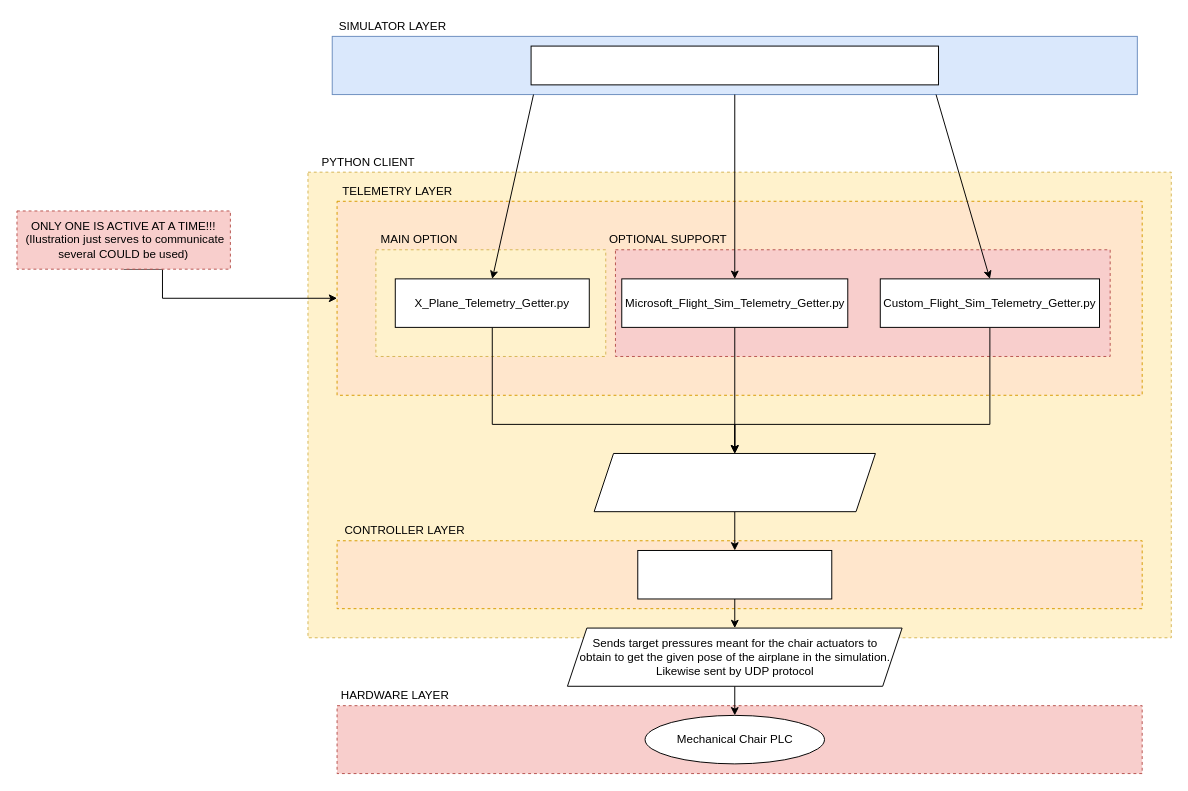
This 1188x791 diagram has some shape labels left out. Here are the shapes that lost their labels. From the top down, the box of each, then its label:
(530, 45, 938, 85): Running Flight Simulator (X-Plane, Microsoft Flight Sim, etc...)
(593, 453, 875, 512): Send a telemetry_info_packet (Sent via UDP to Chair_Controller.py)
(637, 550, 832, 599): Chair_Controller.py
